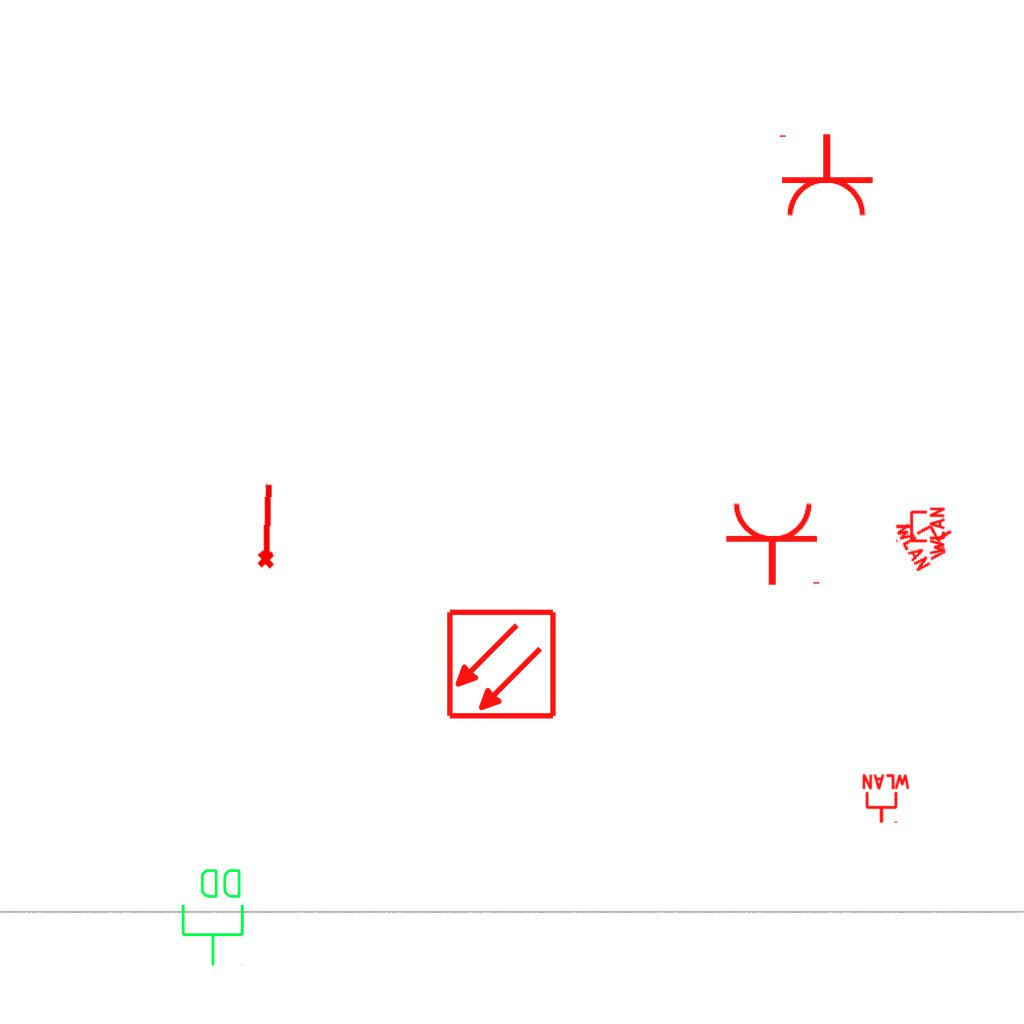ASR_Ansaugoeffnung: (252, 481, 280, 570)
Datenanschluss_zweifach: (179, 865, 248, 968)
RMO_Rauchmelder_optischer: (445, 608, 558, 721)
Schukosteckdose_einfach: (775, 132, 875, 219), (724, 500, 824, 587)
WLAN: (892, 503, 964, 575), (860, 773, 912, 825), (894, 505, 946, 557)
